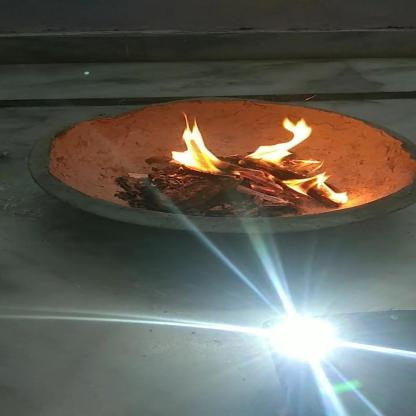fire: (155, 115, 233, 177), (244, 114, 326, 171), (281, 169, 356, 207)
